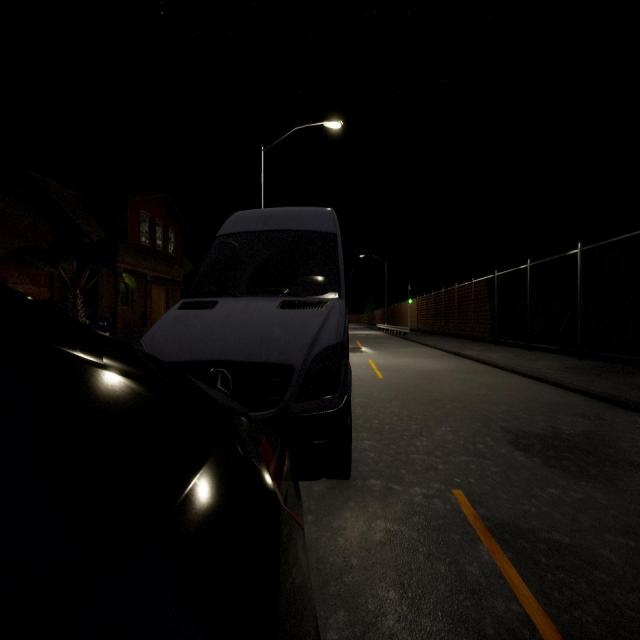Vehicle: (0, 322, 323, 638), (140, 208, 364, 482)
traffic_light: (408, 289, 412, 305)
